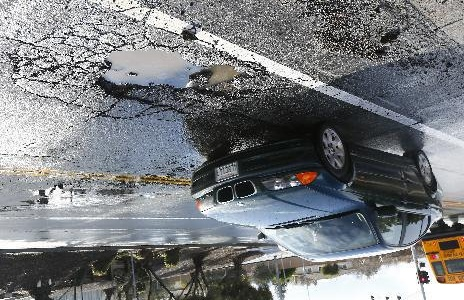pothole: (97, 49, 255, 107)
